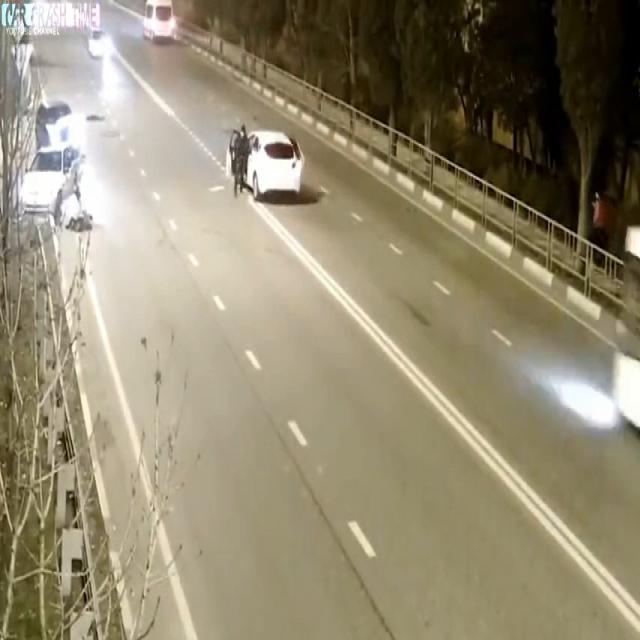Accident: (222, 92, 327, 205)
